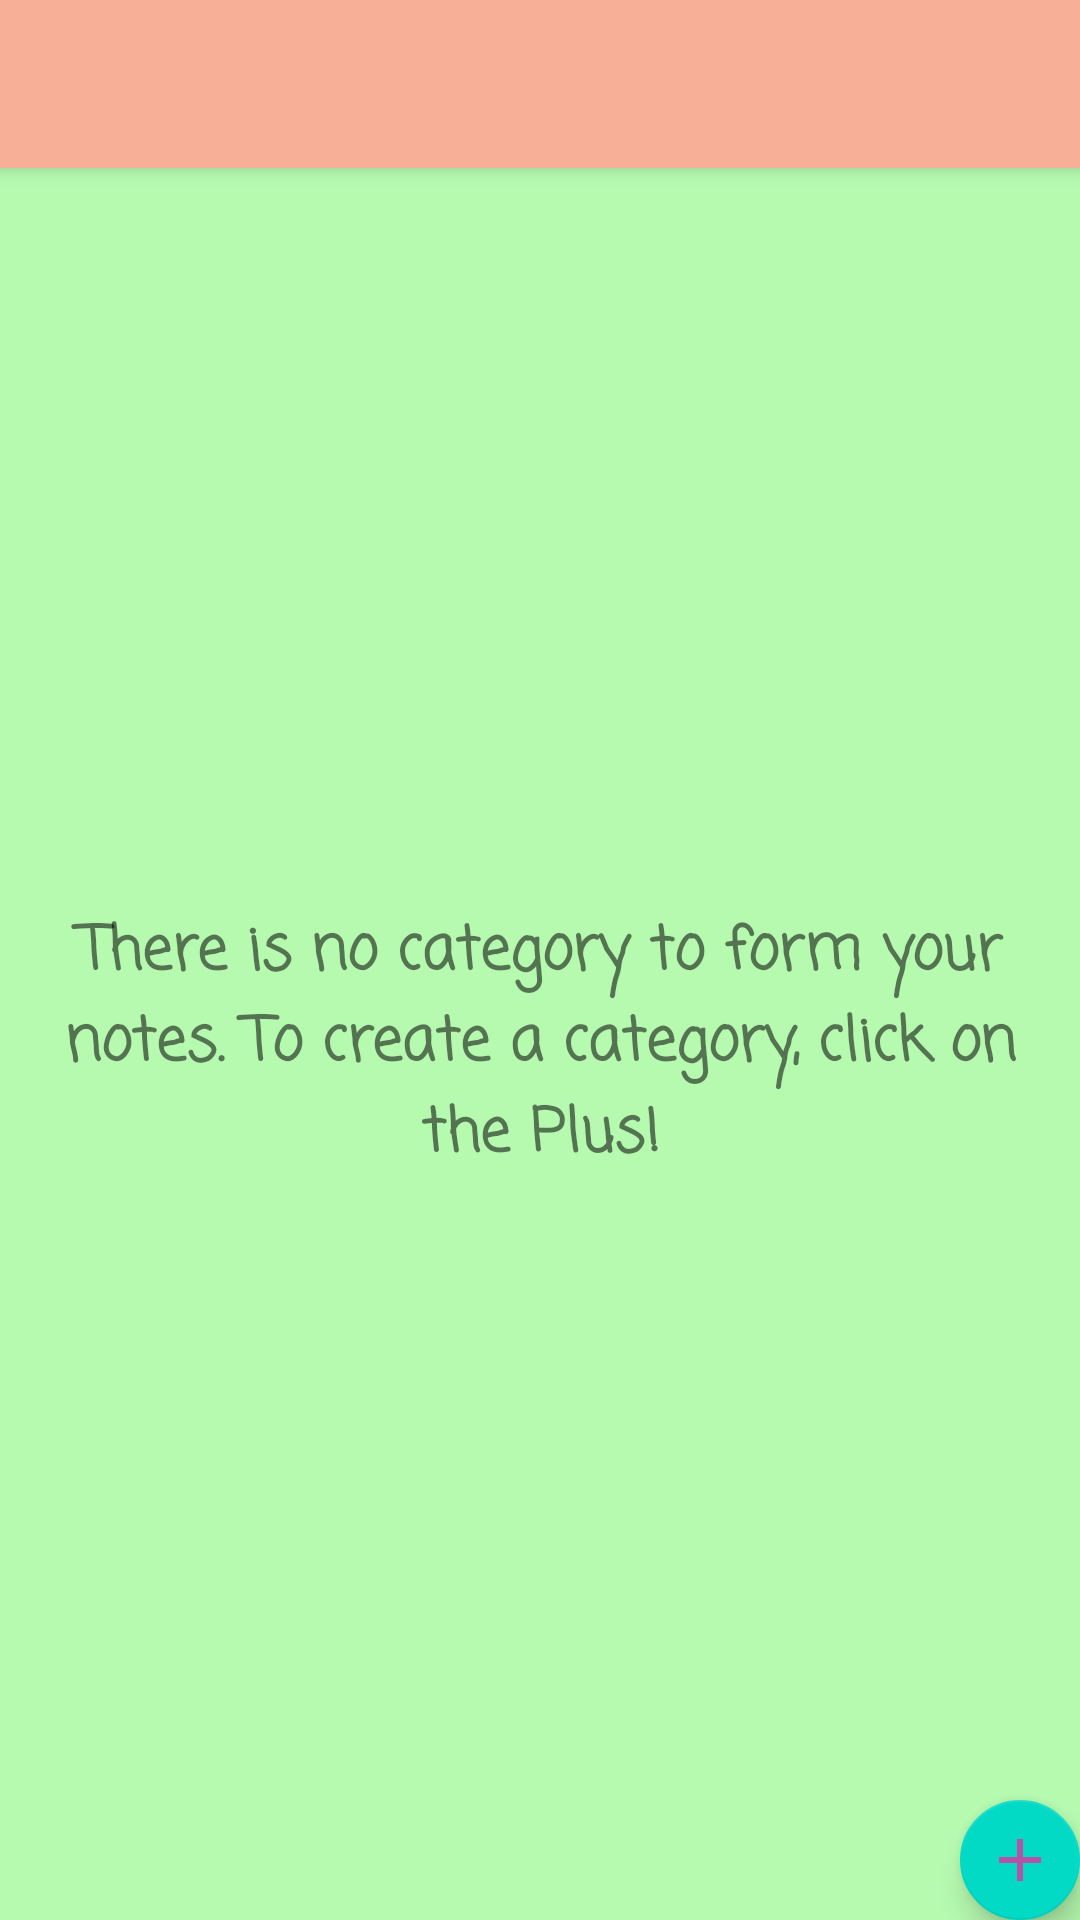

Icon bounding boxes for this 1080 × 1920 phone screenshot, format [x1,y1,x2,y2]:
add category: [960,1800,1080,1920]
